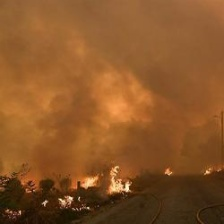fire: (1, 158, 223, 221)
smoke: (15, 6, 210, 150)
